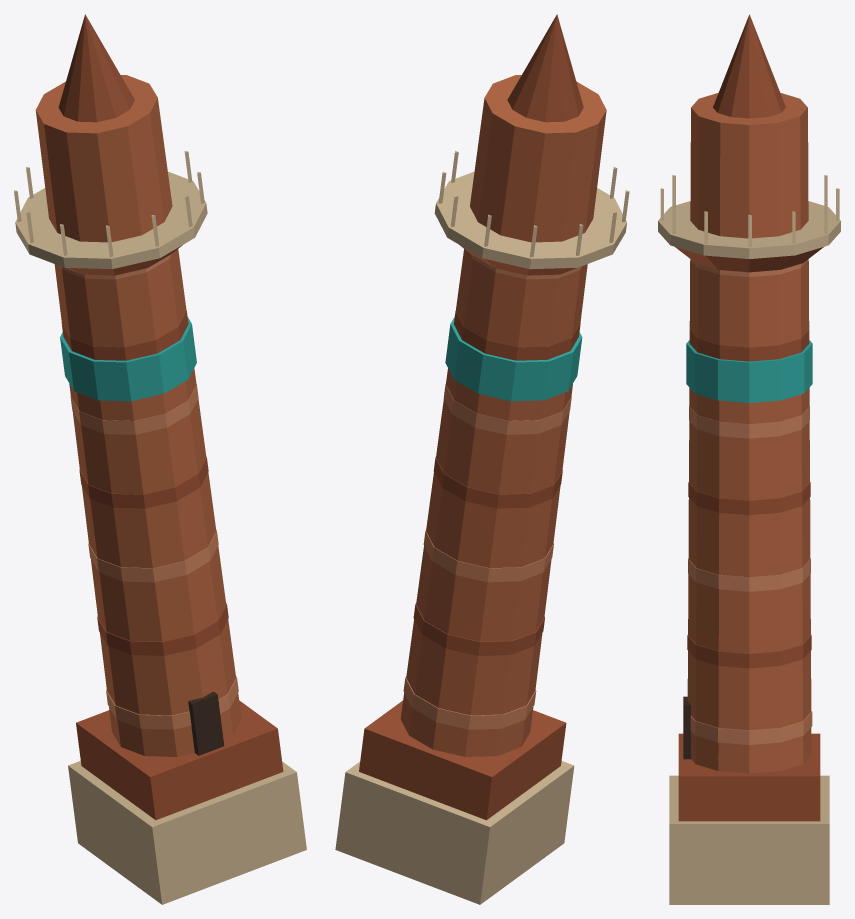
Rendered from aksaray.glb.
3 views of the same model, side by side, from view 1: azimuth 30°, elevation 25°; view 2: azimuth 150°, elevation 25°; view 3: azimuth 270°, elevation 25° (orthographic). The views are drawn at different scales.
Parts seen in each view (by area): view 1: egri_minare; view 2: egri_minare; view 3: egri_minare.
Boxes of the visible parts, x1=… form: egri_minare: x1=14, y1=14, x2=306, y2=904; egri_minare: x1=335, y1=14, x2=629, y2=904; egri_minare: x1=658, y1=14, x2=840, y2=904.
Size of the model in its own units: 2.78 by 9.67 by 1.94.
